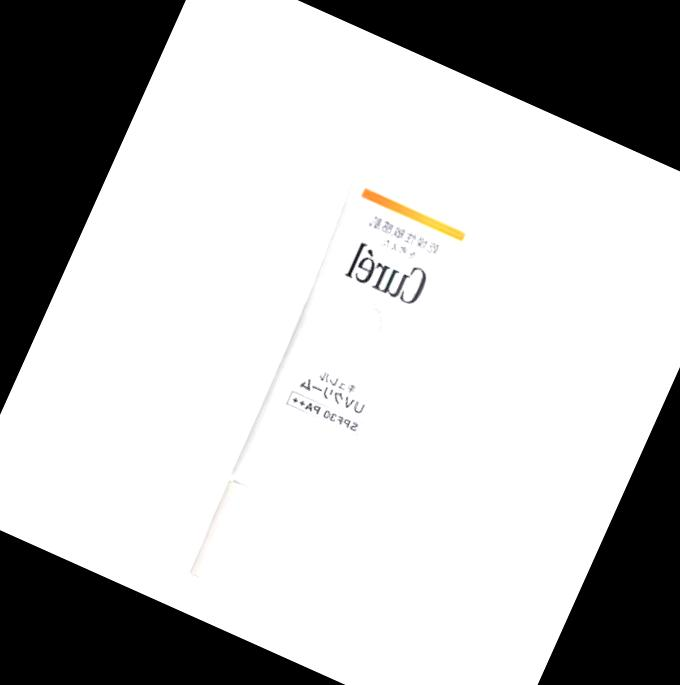cosmetic: (169, 103, 523, 629)
